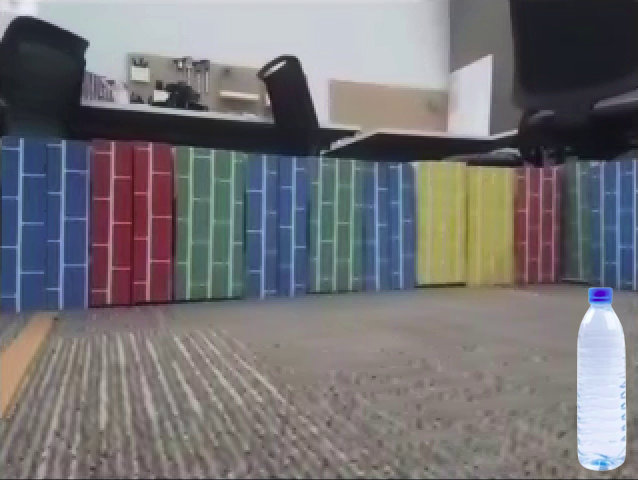bottle: (576, 287, 627, 471)
